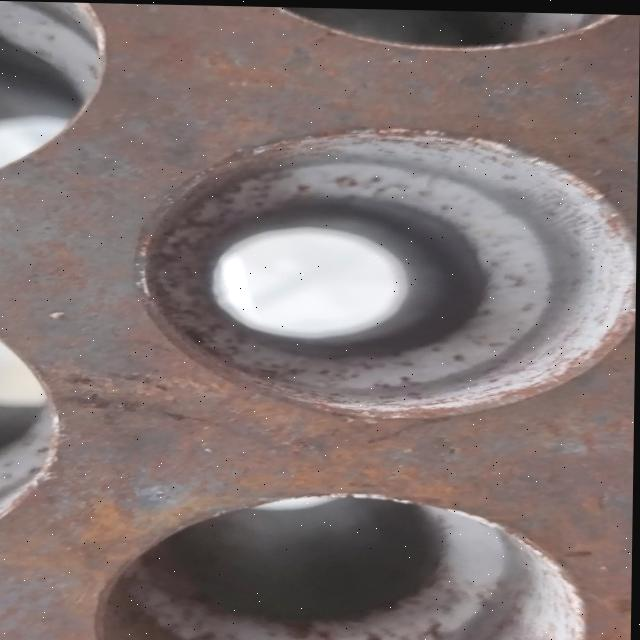Hole: (130, 121, 639, 422), (92, 486, 608, 640), (0, 0, 107, 191)
